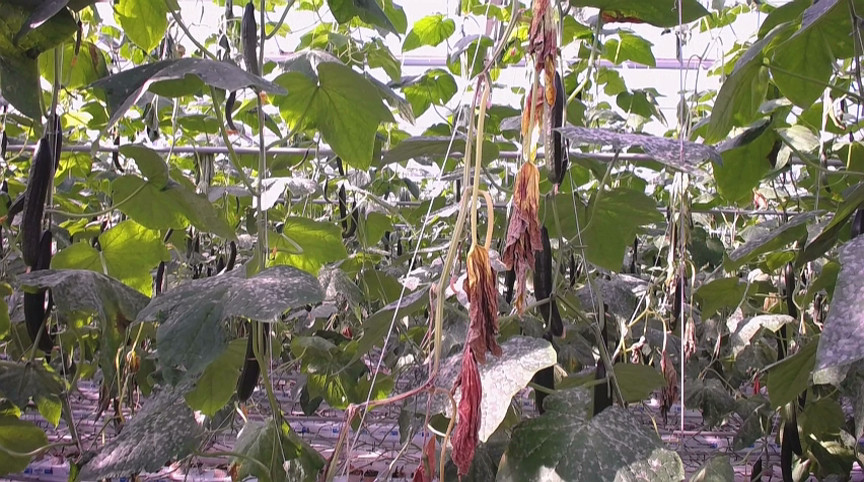cucumber: (20, 139, 53, 266), (29, 230, 56, 351), (536, 227, 562, 336), (543, 71, 564, 185), (240, 2, 261, 78), (237, 344, 259, 402)
